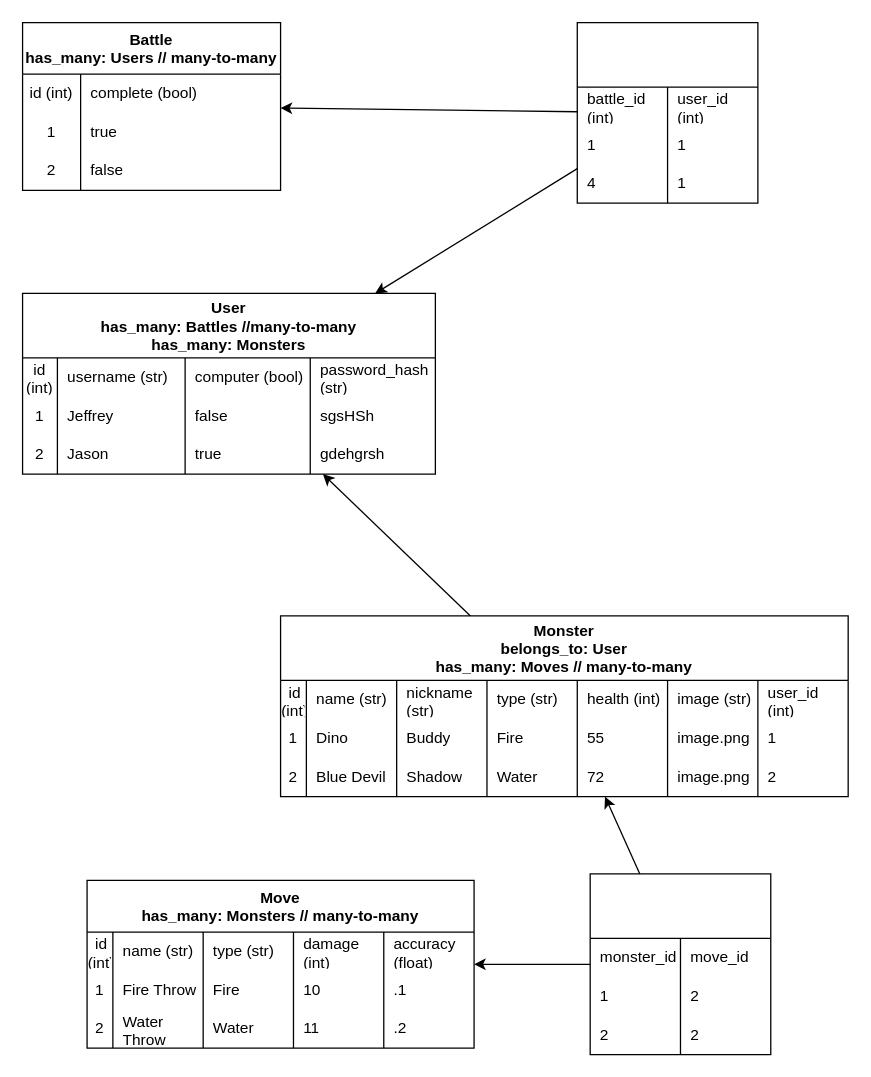
The diagram is 871 pixels wide and 1077 high, and some of its shapes have lost their labels. Here are the shapes that lost their labels. From the top down, the box of each, then its label:
(576, 21, 758, 203): Battle_Users belongs_to: Battle belongs_to: User
(589, 873, 771, 1055): Monster-Moves belongs_to: Monster belongs_to: Move
